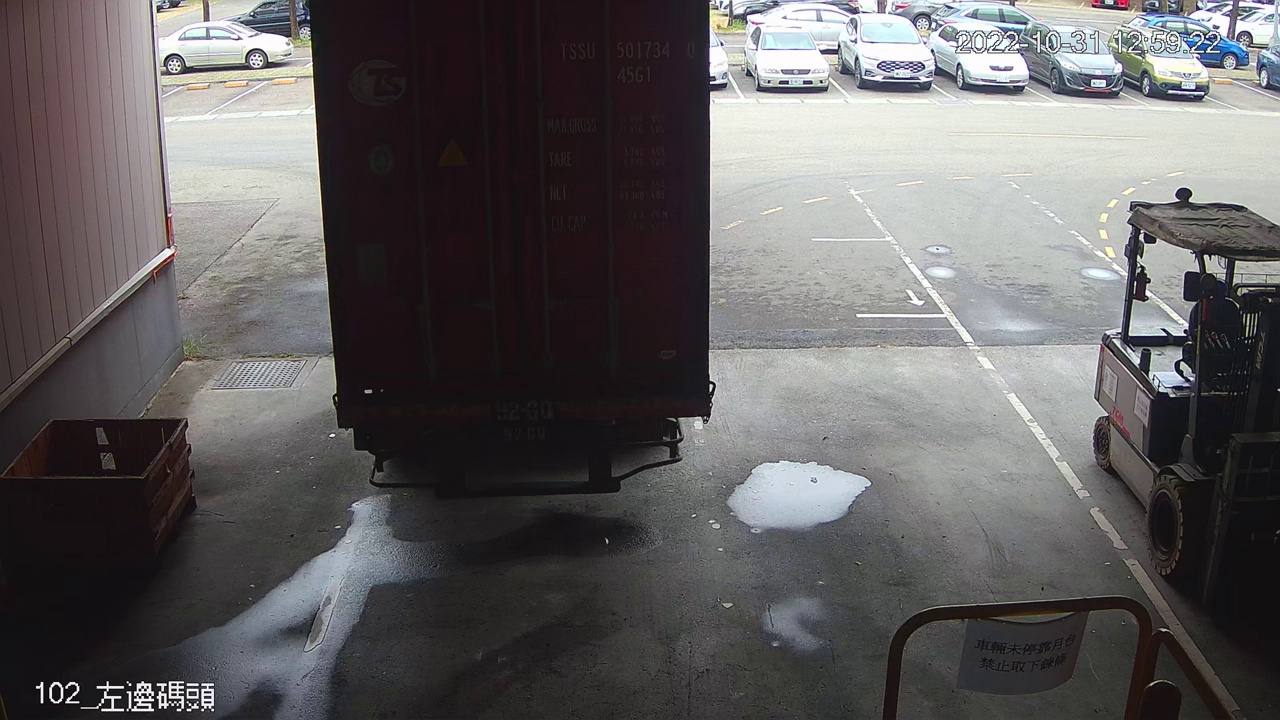container: (553, 34, 702, 90)
